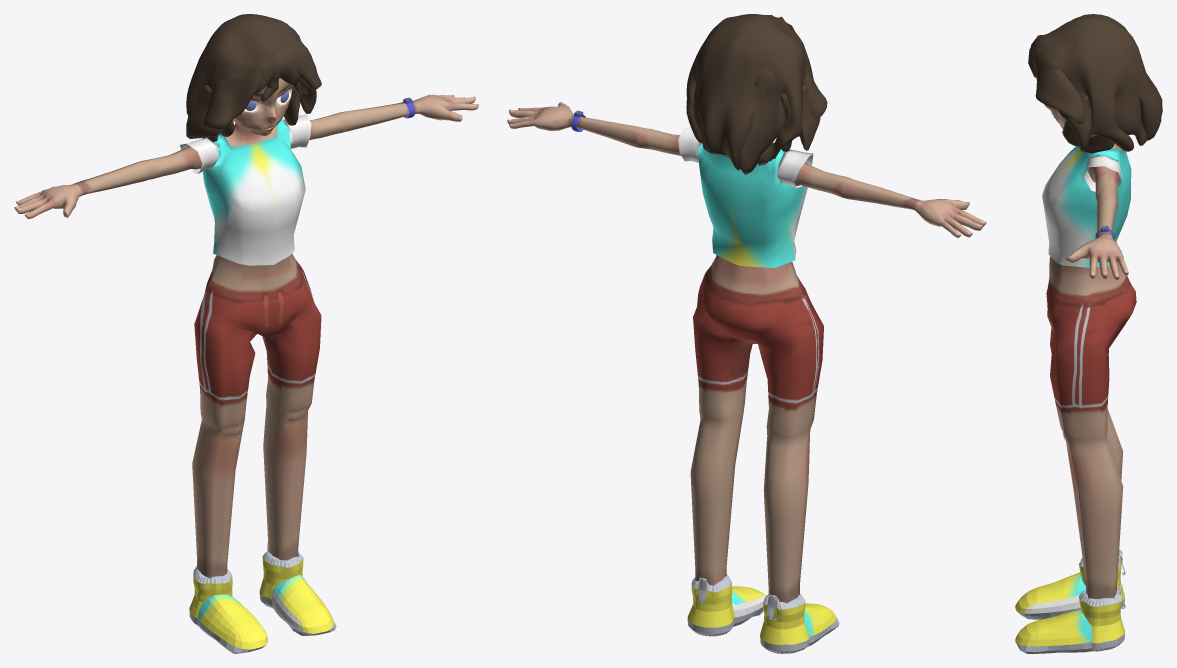
Rendered from pedestrian_female1.fbx.
3 renders of one model, left to right at view 1: azimuth 30°, elevation 25°; view 2: azimuth 150°, elevation 25°; view 3: azimuth 270°, elevation 25°, orthographic. The views are drawn at different scales.
Visible parts, largest first — view 1: body, CLOTHE, hair, shoes; view 2: body, hair, CLOTHE, shoes; view 3: body, hair, shoes, CLOTHE.
Part boxes in pixels (left/top/right/bottom): body: left=14, top=78, right=478, bottom=646; CLOTHE: left=180, top=114, right=311, bottom=265; hair: left=186, top=14, right=321, bottom=141; shoes: left=189, top=542, right=336, bottom=653; body: left=507, top=102, right=986, bottom=603; hair: left=686, top=14, right=827, bottom=174; CLOTHE: left=678, top=126, right=813, bottom=267; shoes: left=687, top=574, right=839, bottom=653; body: left=1025, top=104, right=1136, bottom=647; hair: left=1028, top=14, right=1162, bottom=153; shoes: left=1015, top=550, right=1125, bottom=653; CLOTHE: left=1042, top=146, right=1131, bottom=267.
Size of the model in its own units: 15.16 by 19.01 by 4.15.
